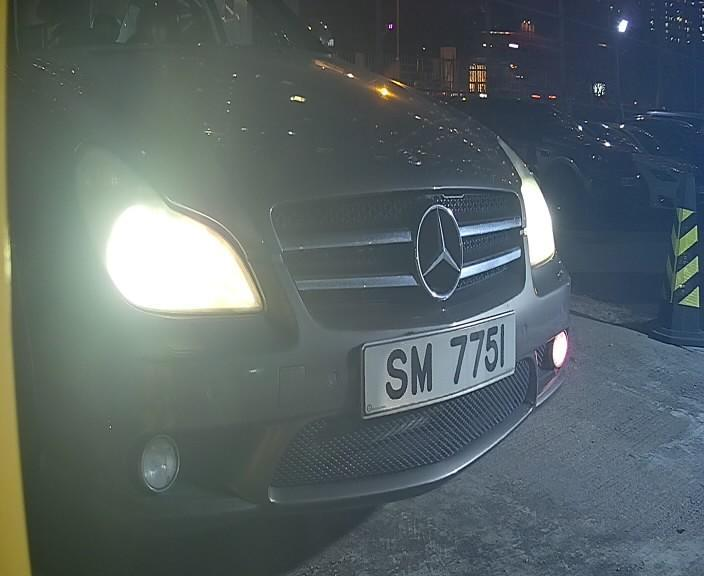privatecar: (38, 6, 579, 538)
